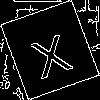X: (25, 24, 74, 80)
